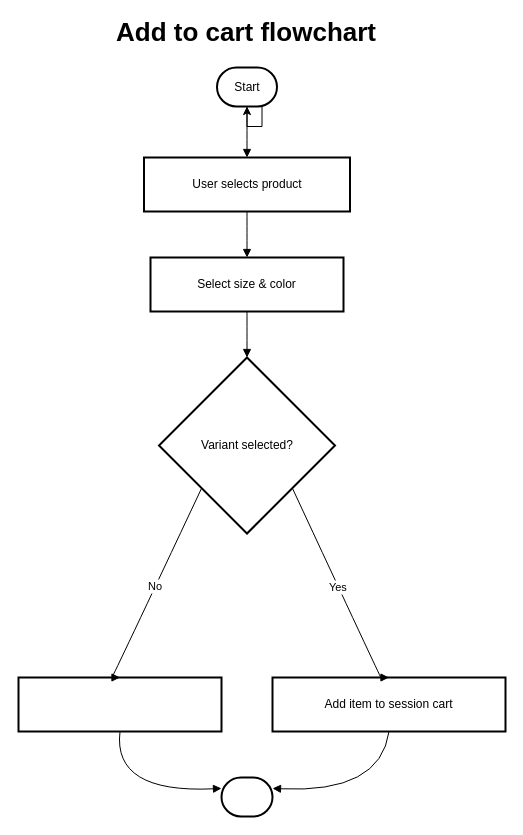
This 523x835 diagram has some shape labels left out. Each missing label, with the centre of its shape:
"End" goes at [246,796].
"Show error message" goes at [119,704].
